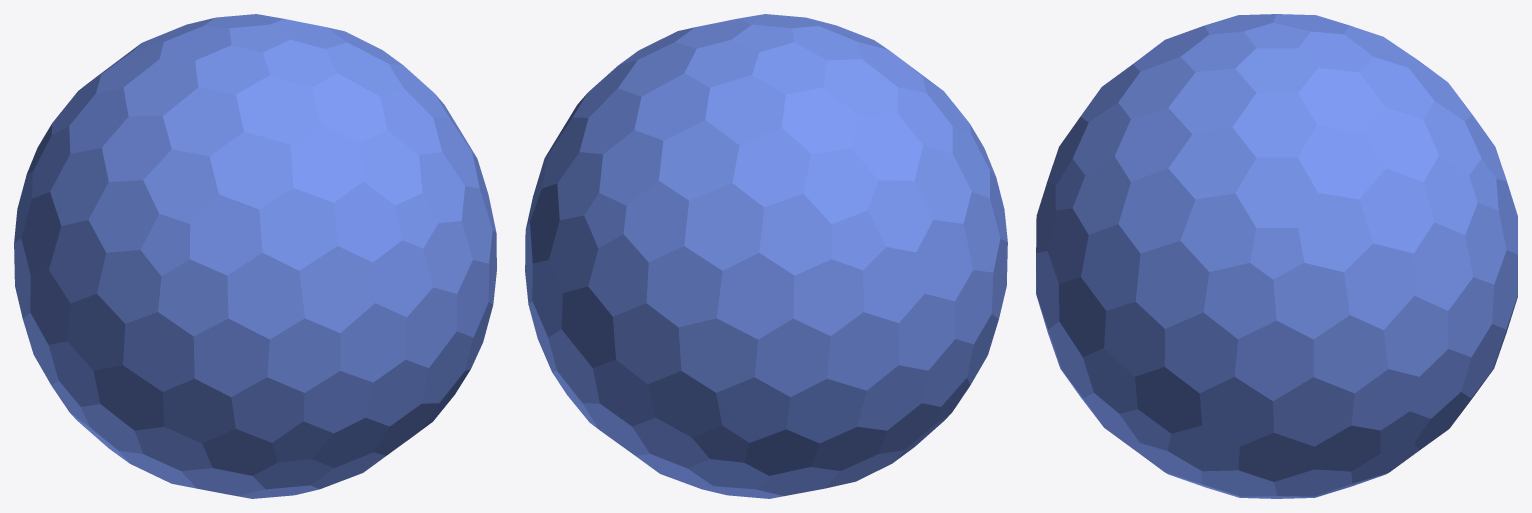
The model's file is Ocean.fbx.
The picture shows the model from 3 angles, left to right: view 1: azimuth 30°, elevation 25°; view 2: azimuth 150°, elevation 25°; view 3: azimuth 270°, elevation 25°; orthographic projection.
Parts seen in each view (by area): view 1: Icosphere, Icosphere.038, Icosphere.041, Icosphere.039, Icosphere.040, Icosphere.043; view 2: Icosphere, Icosphere.043, Icosphere.041, Icosphere.042, Icosphere.039; view 3: Icosphere, Icosphere.043, Icosphere.038, Icosphere.039.
Part boxes in pixels (bbox=[...]): Icosphere: bbox=[14, 14, 496, 498]; Icosphere.038: bbox=[299, 88, 488, 489]; Icosphere.041: bbox=[23, 87, 194, 430]; Icosphere.039: bbox=[163, 45, 337, 396]; Icosphere.040: bbox=[119, 318, 389, 495]; Icosphere.043: bbox=[51, 27, 448, 134]; Icosphere: bbox=[525, 14, 1007, 489]; Icosphere.043: bbox=[525, 27, 878, 428]; Icosphere.041: bbox=[851, 87, 1007, 406]; Icosphere.042: bbox=[688, 312, 928, 498]; Icosphere.039: bbox=[792, 26, 938, 92]; Icosphere: bbox=[1048, 14, 1517, 498]; Icosphere.043: bbox=[1168, 57, 1517, 497]; Icosphere.038: bbox=[1036, 103, 1192, 424]; Icosphere.039: bbox=[1204, 14, 1276, 34].
Bounding box in the file's own units: 230 × 232 × 229.
